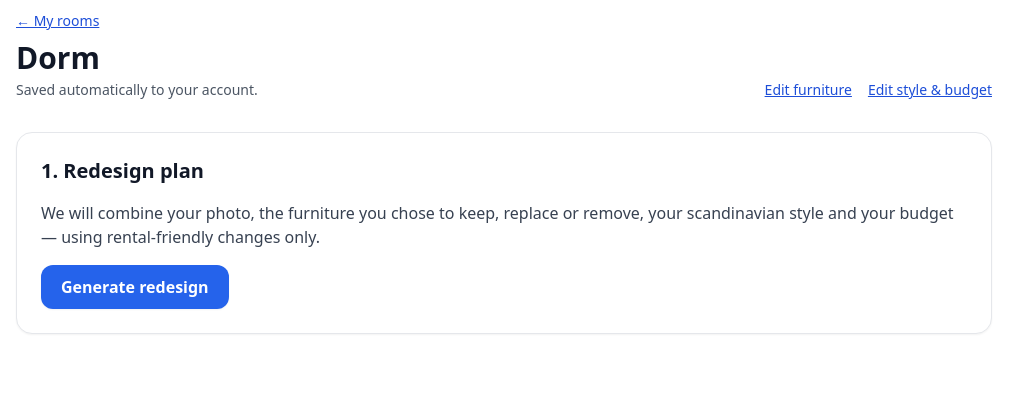
it: Design workspace (MVP Features 6-10) › explains provider failures and offers a retry
This screenshot has width=1009, height=411.
Click the button "Generate redesign" at (135,287), box [41,265,229,309]
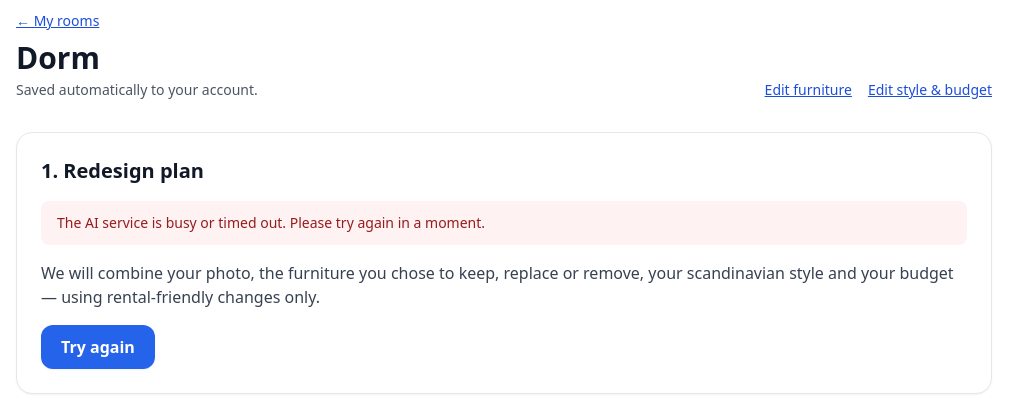
Expected: the message shows "The AI service is busy", [57,213,485,232]
Expected: the button "Try again" is shown, [41,325,155,369]
